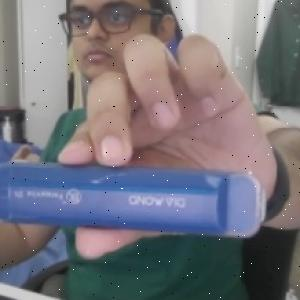Diamond-E-Ciggirate: (0, 155, 273, 242)
